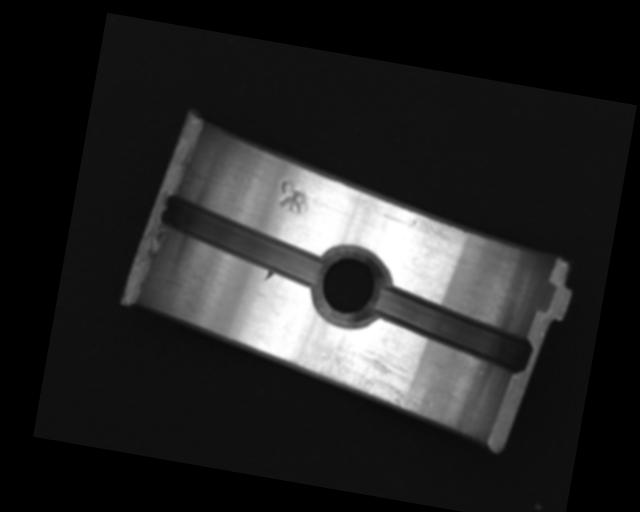bruise: (274, 177, 312, 215), (262, 268, 275, 284)
gap: (152, 195, 329, 287), (368, 283, 538, 373)
hole: (306, 242, 394, 331)
scratch: (285, 325, 443, 420)
